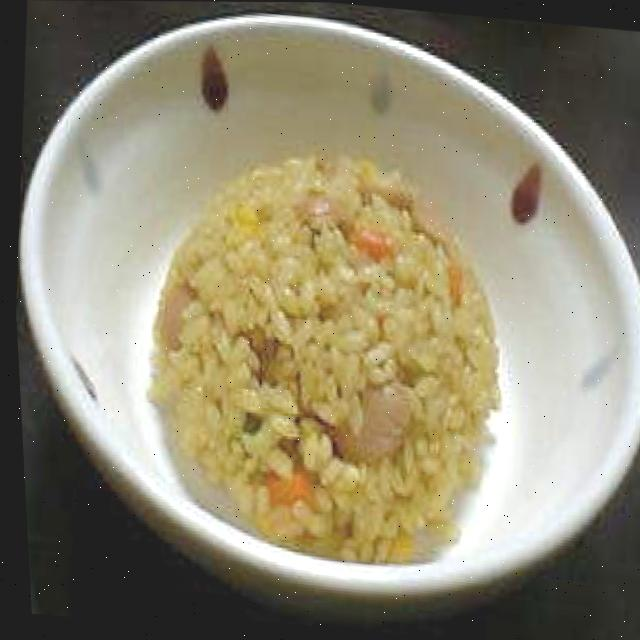米饭主食: (0, 0, 640, 627)
